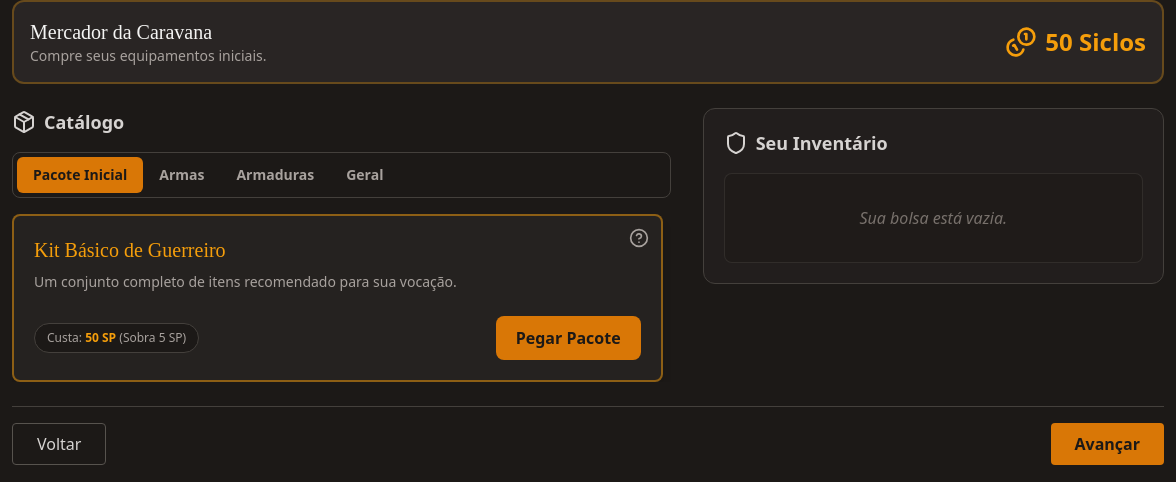
Scenario: Pacote Inicial › vender o kit devolve os 50 Siclos inteiros, não só o que sobrou
Click the button "Pegar Pacote". click: (568, 338)
box: [496, 316, 641, 360]
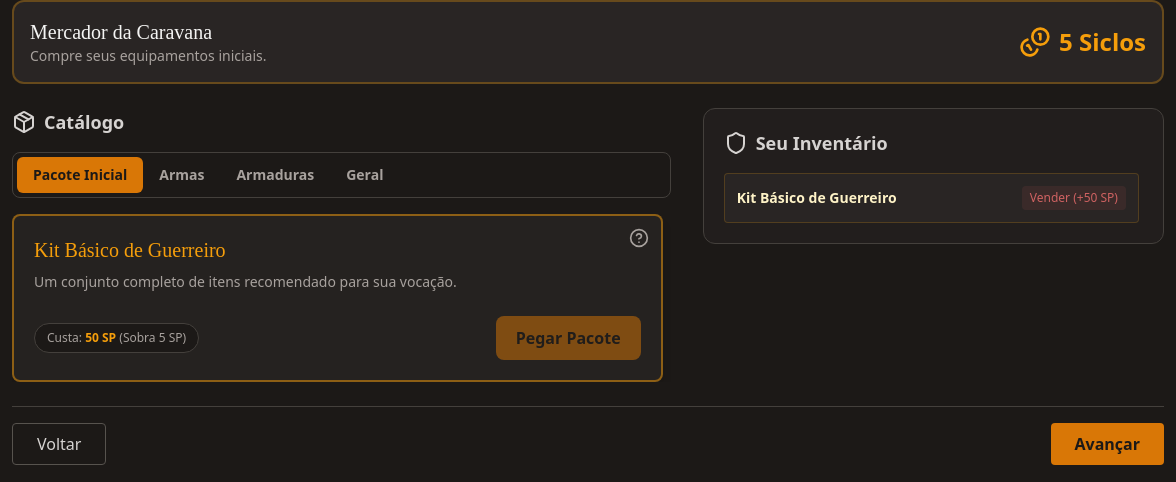
Click the button "Vender (+50 SP)". click: (1074, 198)
box: [1022, 186, 1126, 210]
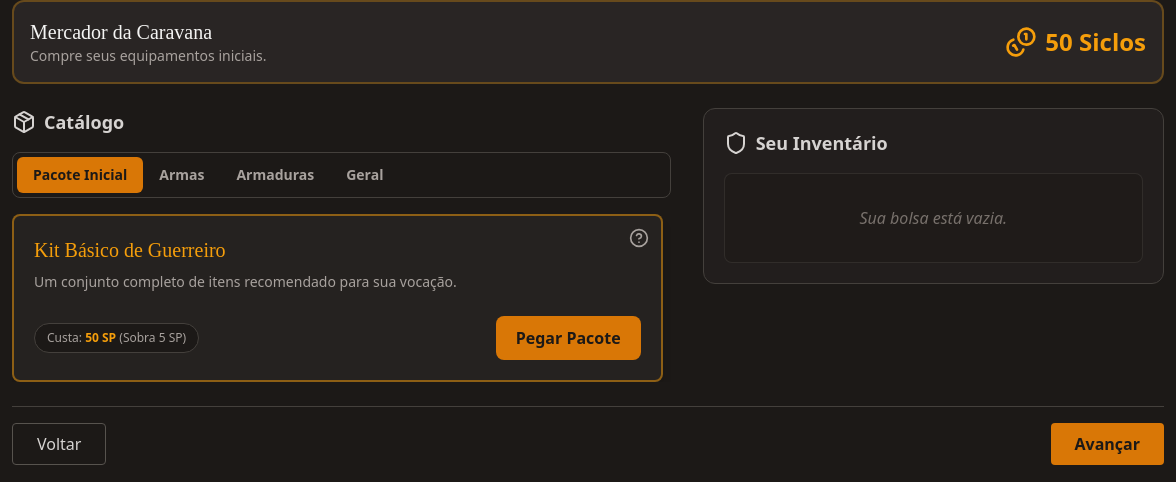
Expected: the text "50 Siclos" is shown, [1045, 26, 1146, 58]
